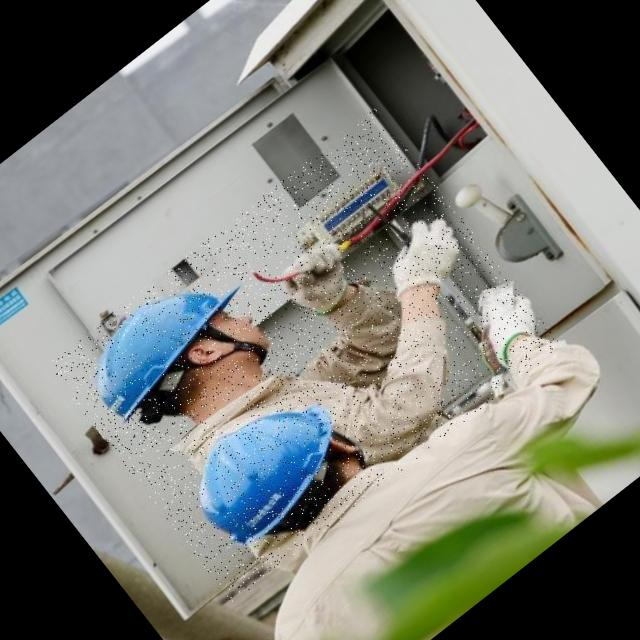hard_hat: (58, 235, 276, 436), (162, 364, 376, 568)
vehicle: (47, 108, 562, 602), (142, 211, 640, 640)
